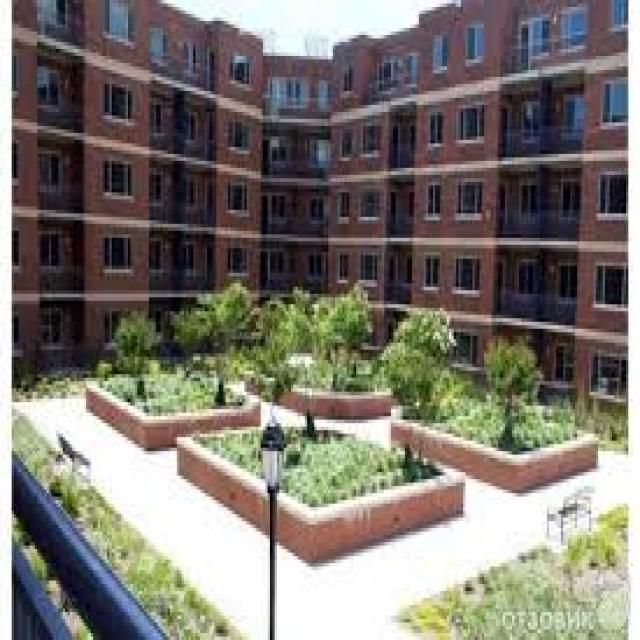window: (100, 157, 140, 203), (98, 234, 140, 276), (519, 17, 552, 70), (447, 178, 484, 224), (594, 262, 628, 312), (100, 77, 137, 119), (598, 172, 628, 220), (454, 105, 484, 150), (605, 80, 628, 133), (228, 52, 256, 94), (226, 116, 253, 158), (358, 119, 382, 164), (281, 74, 312, 108), (452, 255, 479, 294), (226, 178, 251, 220), (375, 56, 400, 91), (226, 245, 249, 283), (426, 178, 442, 231), (356, 252, 379, 287), (421, 252, 438, 297), (358, 189, 379, 224), (340, 66, 361, 95), (335, 248, 349, 287), (340, 126, 354, 164), (433, 42, 449, 73), (428, 119, 445, 147), (338, 192, 349, 217)
